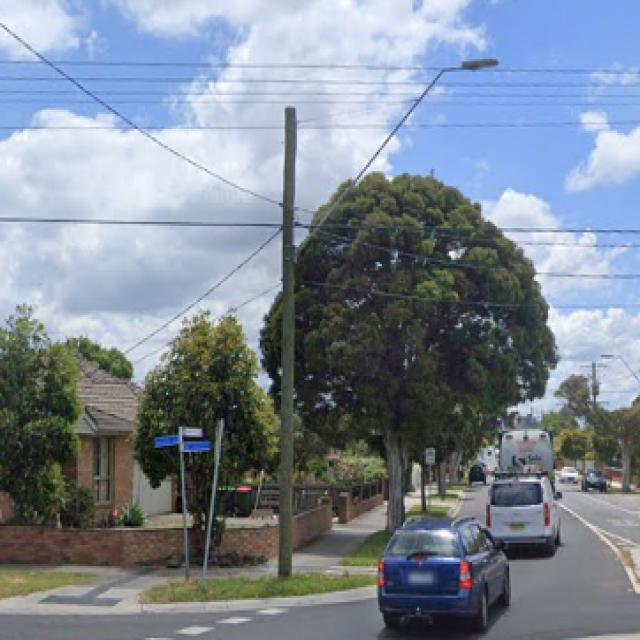streetlight: (294, 56, 500, 255)
timber-pole: (278, 106, 297, 578)
